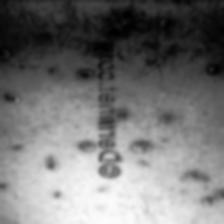Non-Cancerous Skin Condition: (113, 0, 224, 77), (0, 142, 80, 192), (114, 102, 176, 162), (0, 44, 30, 104), (195, 176, 224, 208), (74, 65, 96, 84)
